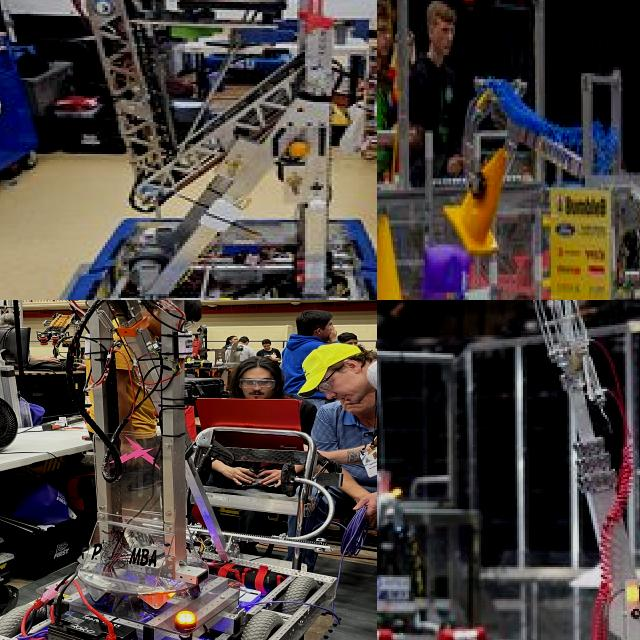FRC-Robots: (0, 300, 354, 640), (6, 0, 377, 300), (418, 300, 640, 640), (430, 21, 640, 300)
